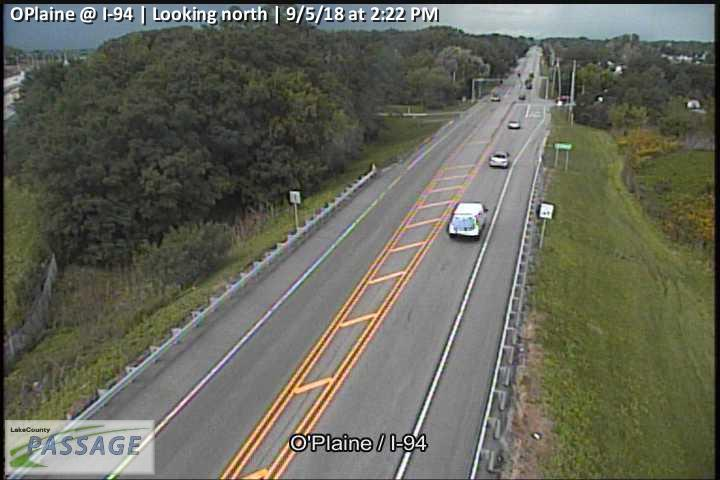SUV: (450, 202, 488, 242), (489, 149, 510, 169)
Sedan: (508, 119, 520, 129)
